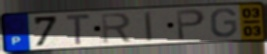7: (33, 15, 60, 48)
G: (210, 7, 239, 39)
I: (143, 10, 154, 43)
P: (174, 8, 207, 41)
R: (99, 11, 134, 45)
T: (64, 13, 93, 47)
